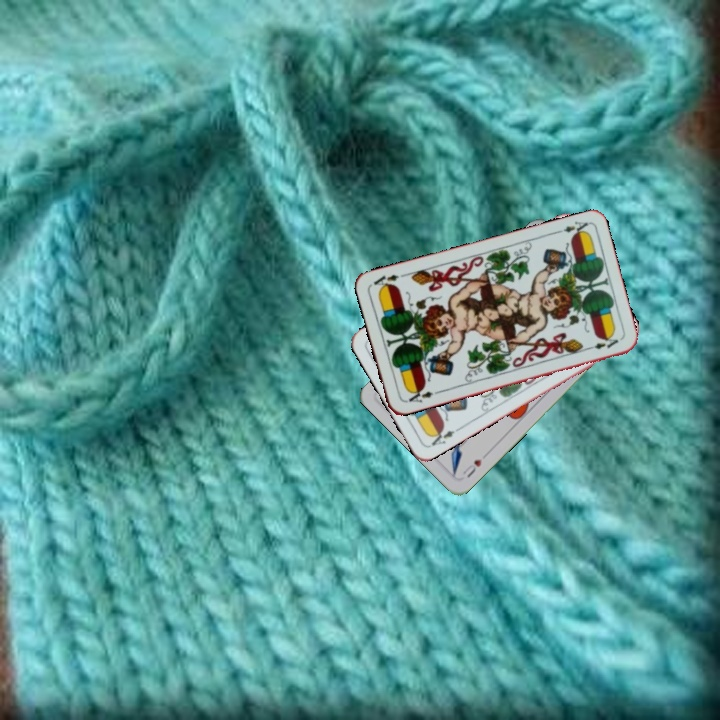EA: (401, 384, 441, 405), (551, 217, 591, 238), (426, 424, 457, 450)
HU: (459, 455, 485, 481)
